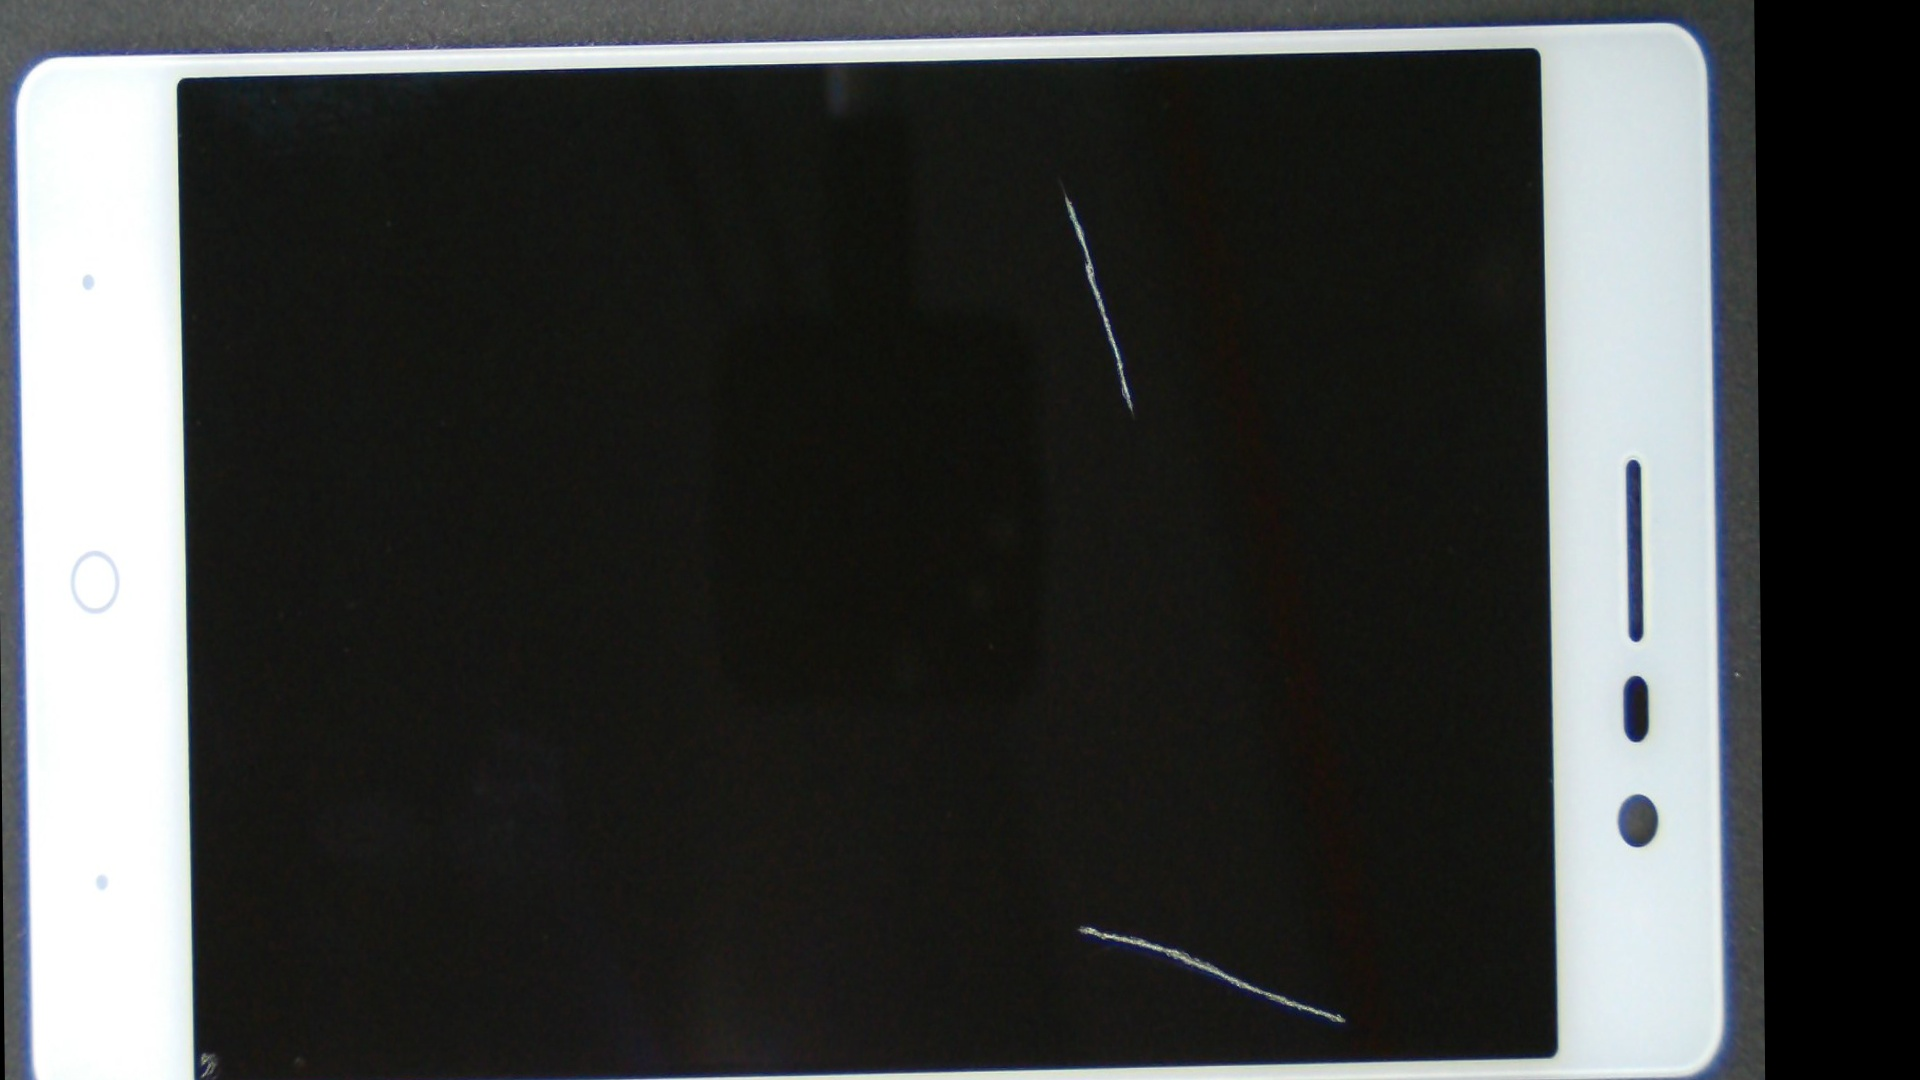oil: (538, 427, 1622, 1080), (527, 51, 1597, 309), (99, 500, 306, 1080)
